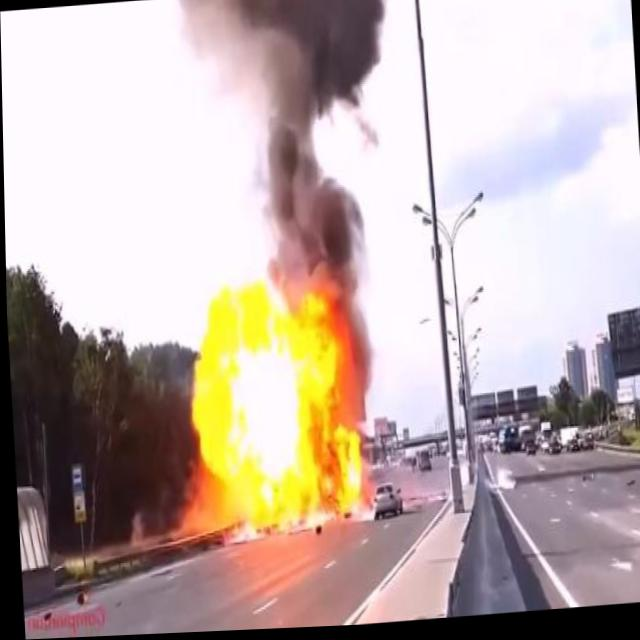fire: (177, 264, 373, 544)
